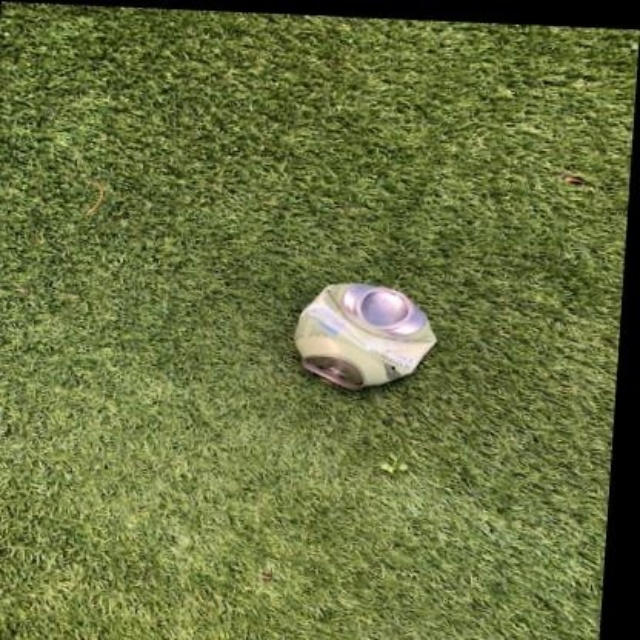trash: (295, 283, 434, 389)
